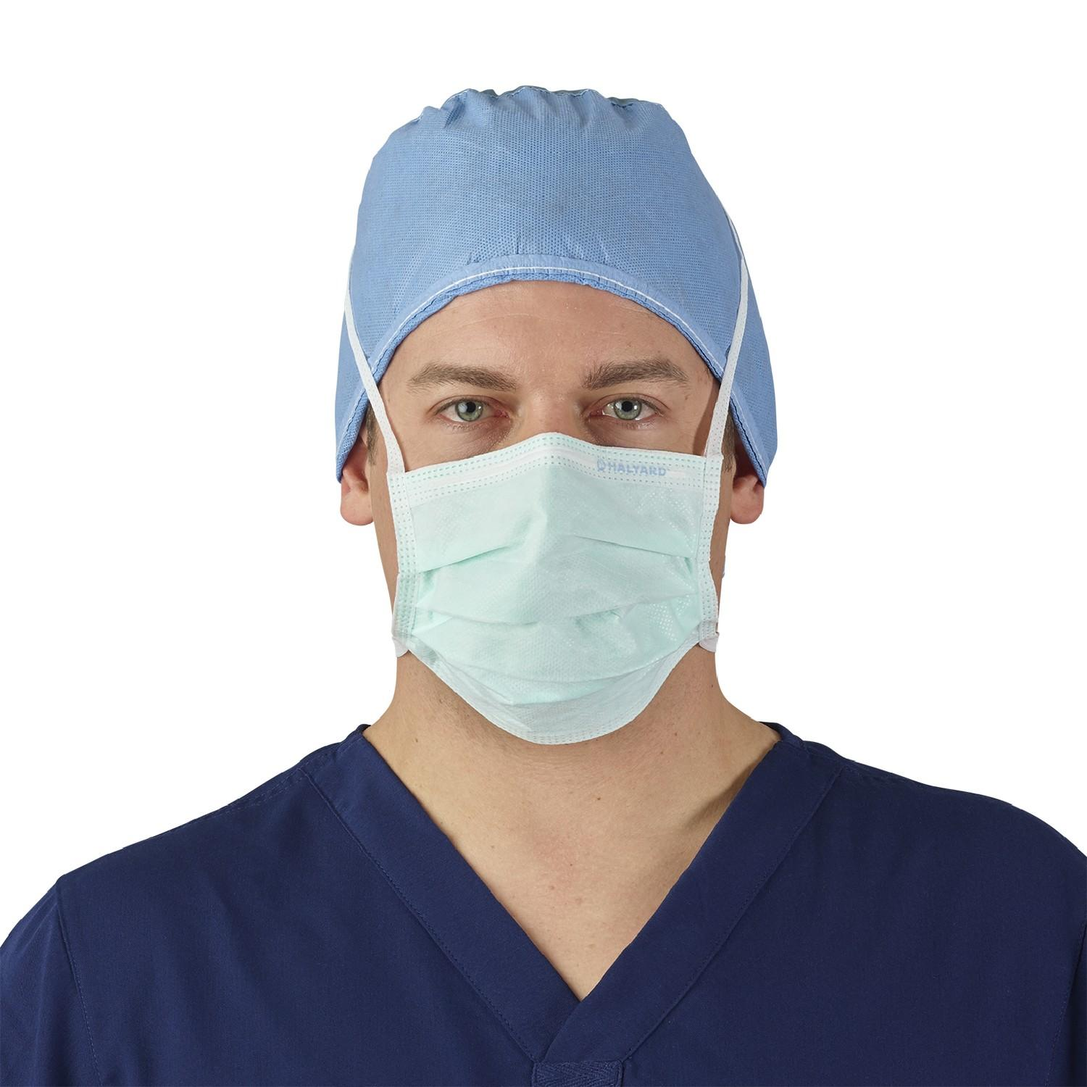Wearing Mask: (175, 0, 947, 778)
